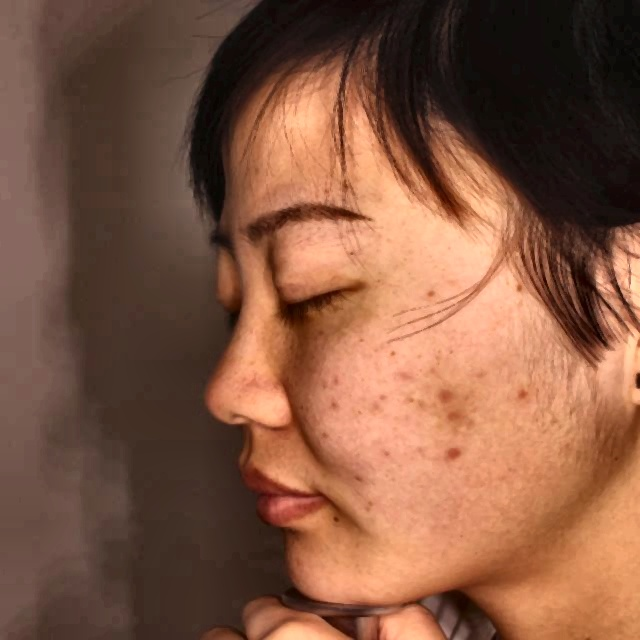comedone: (438, 377, 479, 427), (434, 445, 473, 474), (514, 382, 538, 406)
